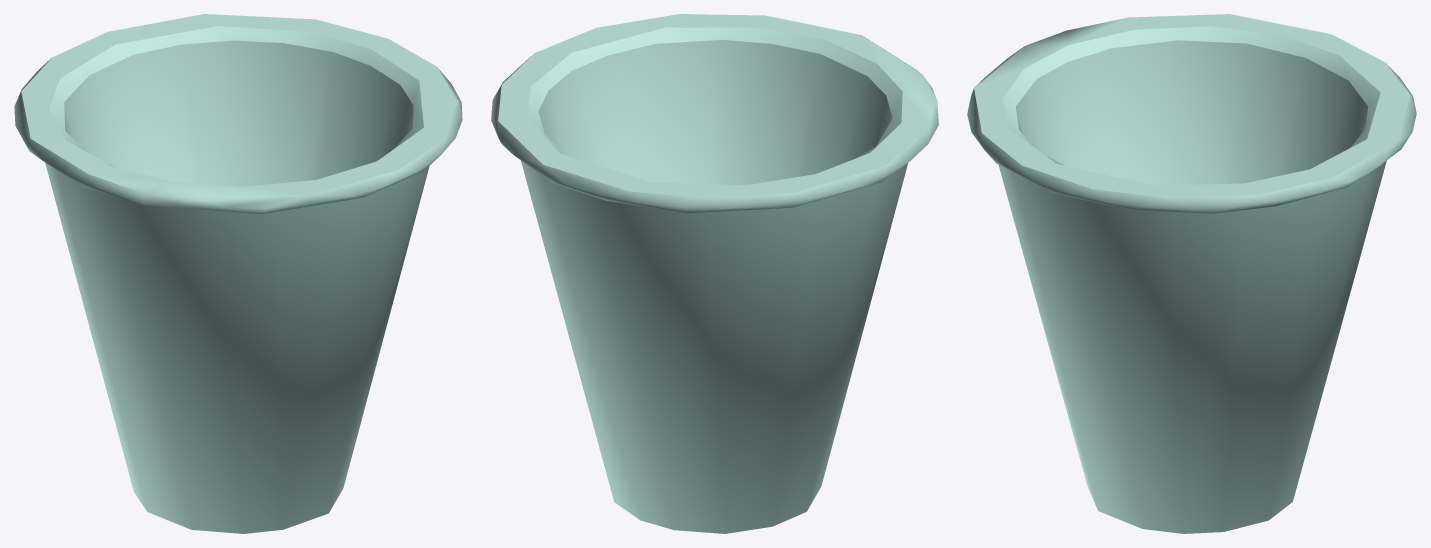
The model's file is medicalCup.fbx.
The picture shows the model from 3 angles, left to right: view 1: azimuth 30°, elevation 25°; view 2: azimuth 150°, elevation 25°; view 3: azimuth 270°, elevation 25°; orthographic projection.
Visible parts, largest first — view 1: cup; view 2: cup; view 3: cup.
Boxes of the visible parts, left/top/right/bottom form: cup: left=14, top=14, right=462, bottom=533; cup: left=491, top=14, right=938, bottom=533; cup: left=967, top=14, right=1416, bottom=533.
Size of the model in its own units: 42.59 by 40.09 by 42.58.
